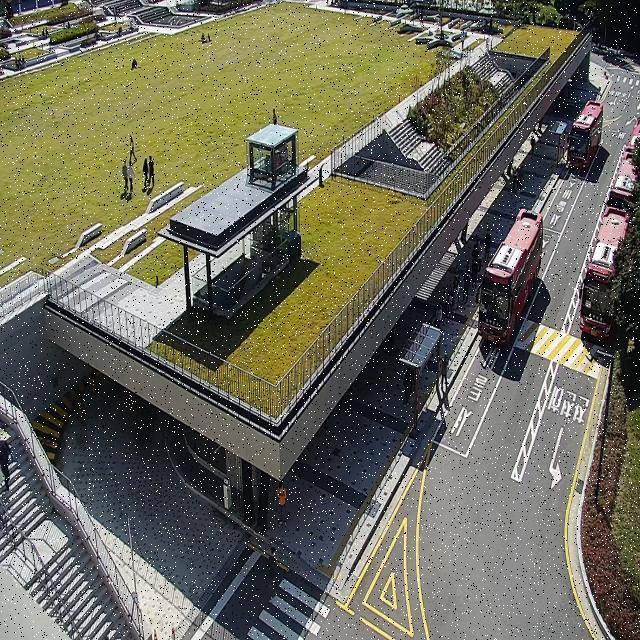queue: (404, 224, 494, 414)
